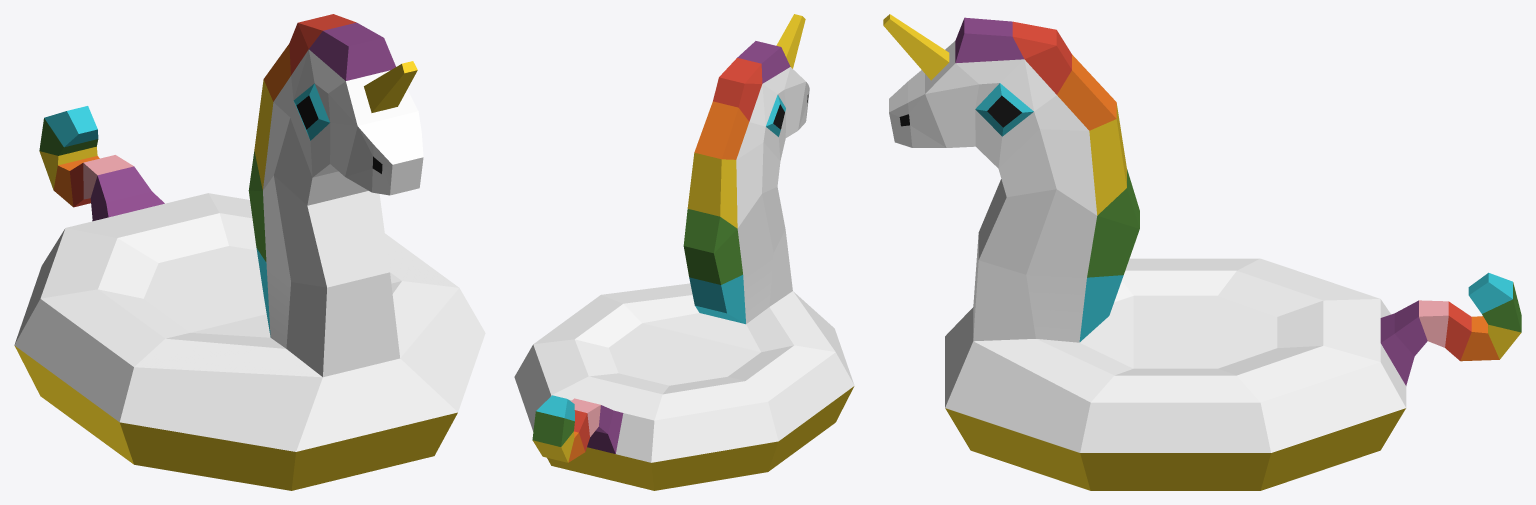
The model's file is beach_inflatable-unicorn-big.fbx.
3 views of the same model, side by side, from view 1: azimuth 30°, elevation 25°; view 2: azimuth 150°, elevation 25°; view 3: azimuth 270°, elevation 25° (orthographic). The views are drawn at different scales.
Parts seen in each view (by area): view 1: beach_inflatable_unicorn_big; view 2: beach_inflatable_unicorn_big; view 3: beach_inflatable_unicorn_big.
Part boxes in pixels (<box>): beach_inflatable_unicorn_big: <box>14,14,485,490</box>; beach_inflatable_unicorn_big: <box>514,14,854,490</box>; beach_inflatable_unicorn_big: <box>883,14,1521,490</box>.
Size of the model in its own units: 120 by 144 by 200.
